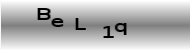1: (101, 25, 114, 38)
B: (37, 7, 50, 20)
L: (74, 18, 87, 31)
e: (50, 17, 63, 28)
q: (114, 22, 128, 35)
